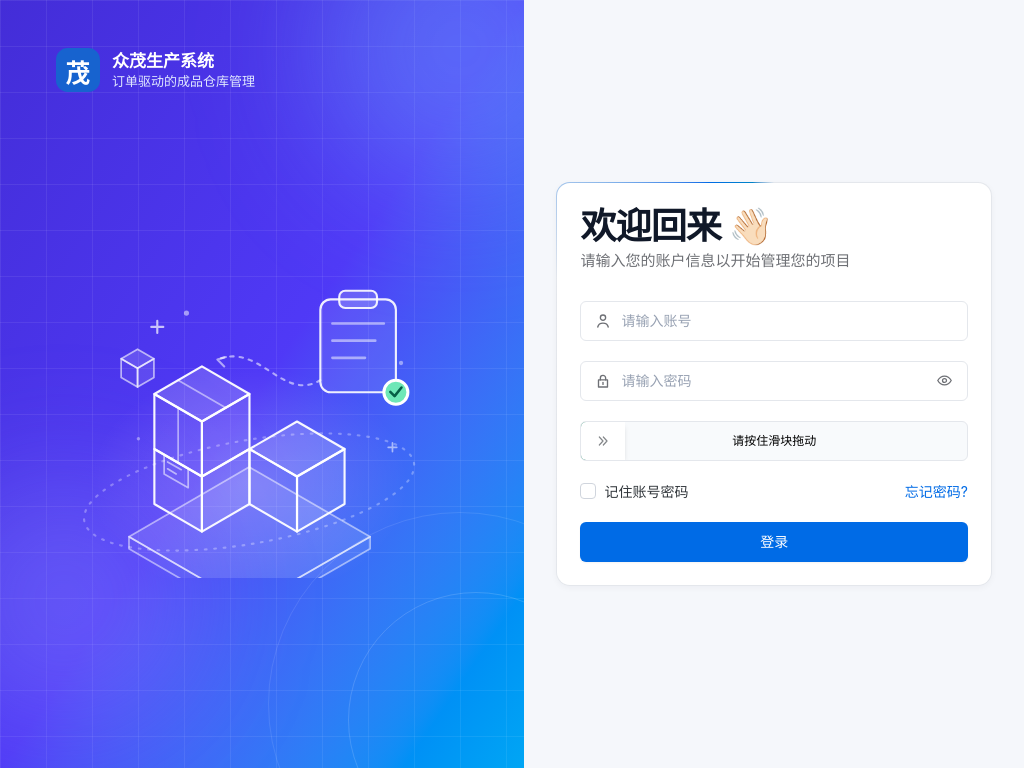
it: LoginPage › resets the captcha but keeps inputs after a recoverable service error
Type "sys_admin" into the field labelled "账号" at x=774, y=321, box [580,301,968,341]
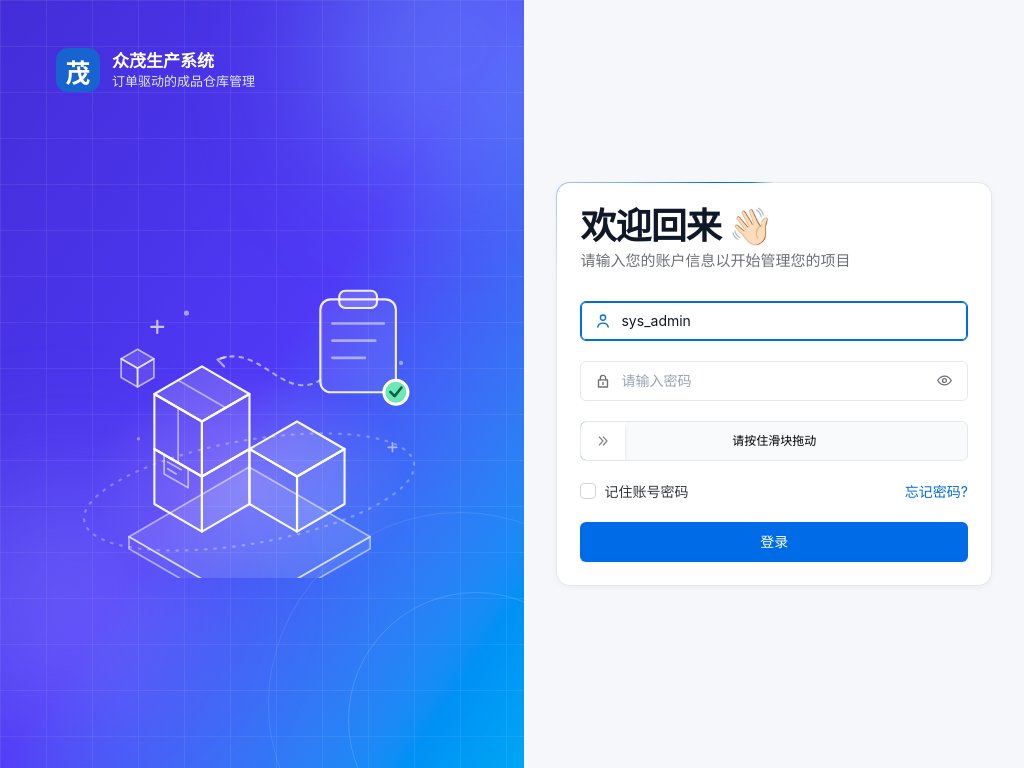
Type "123456" into the password field labelled "密码" at x=774, y=381, box [580,361,968,401]
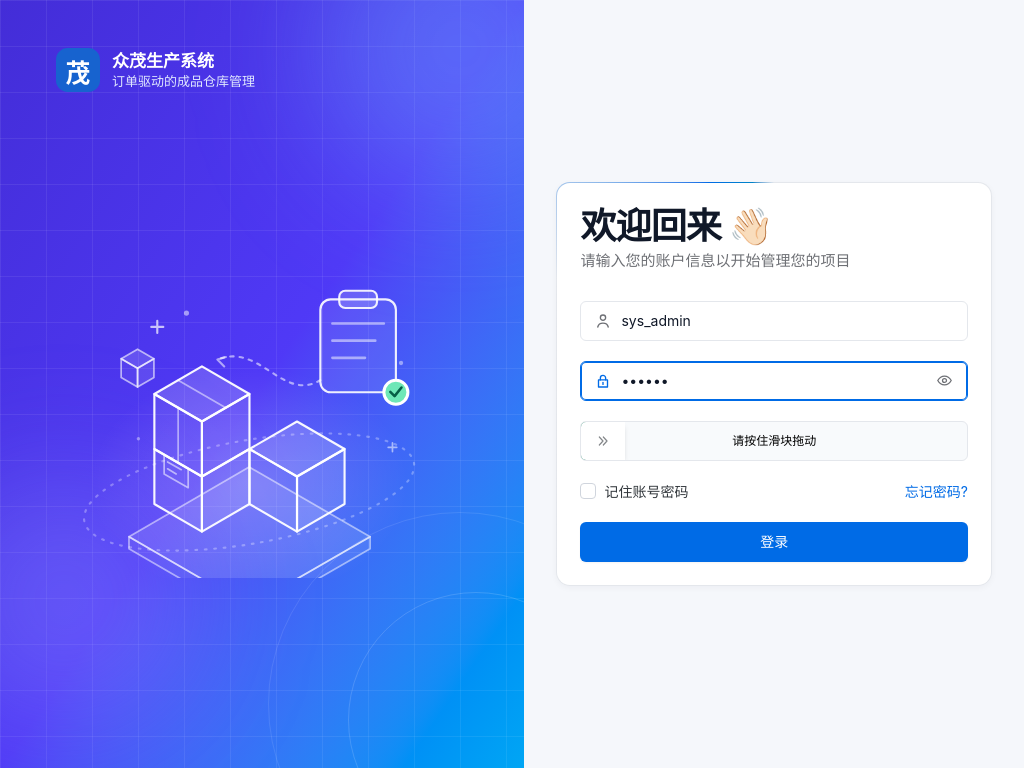
Press End in the slider, box [582,422,626,460]
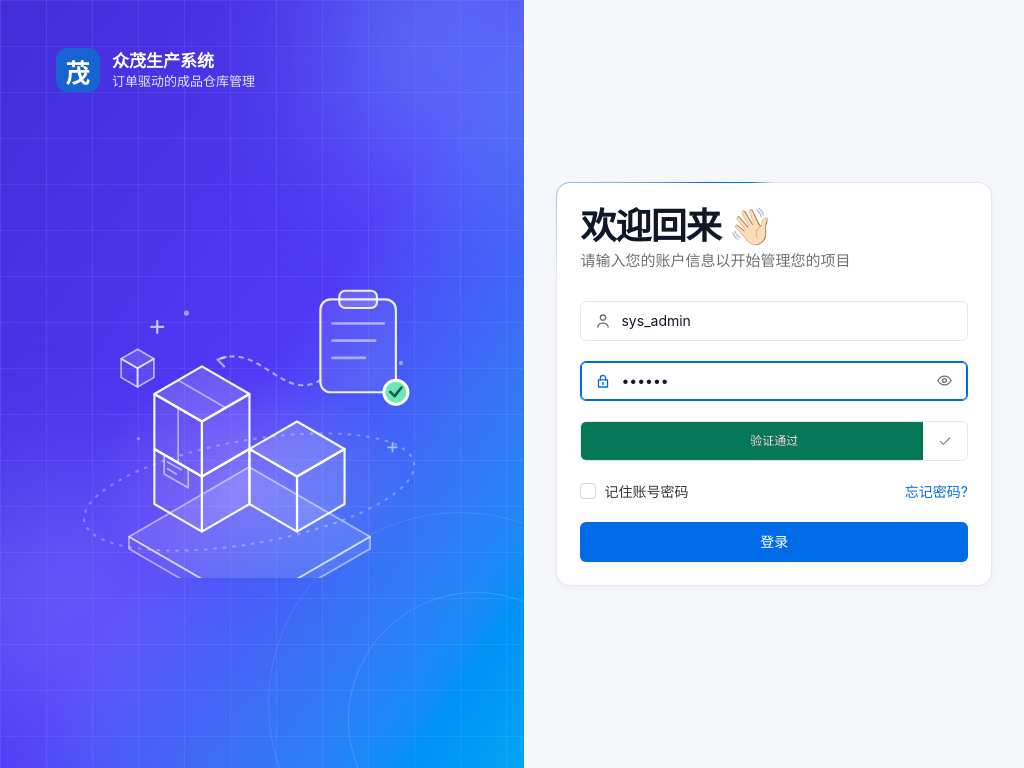
Click the button "登录" at x=774, y=542, box [580,522,968,562]
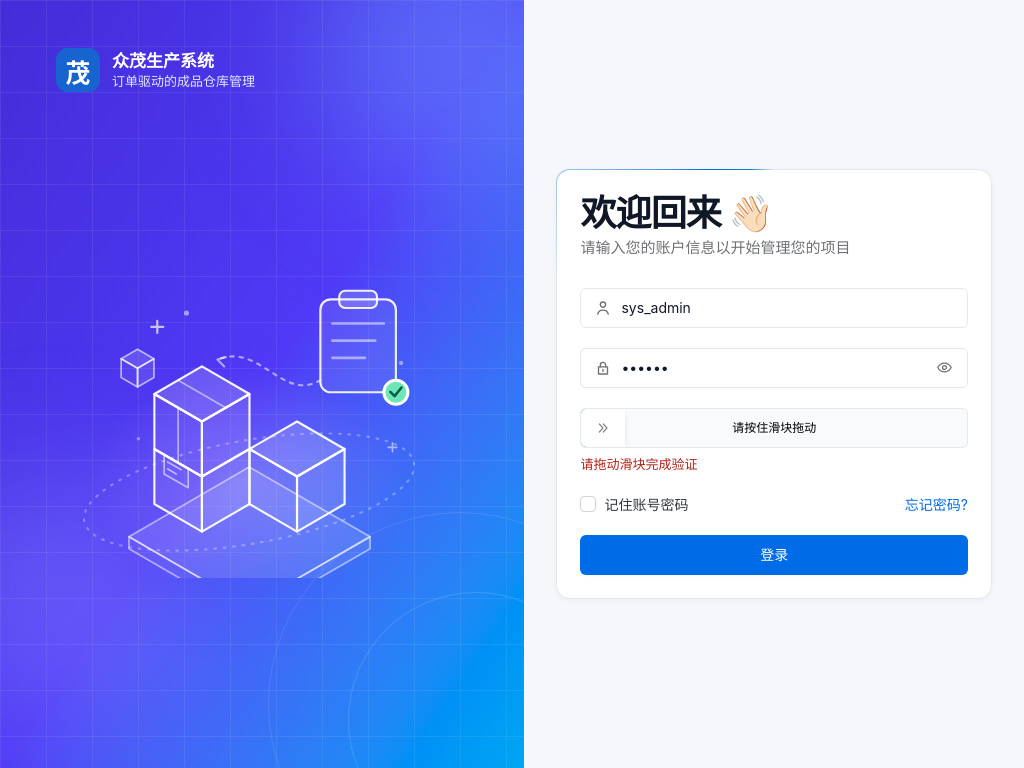
Check: the text "请按住滑块拖动" is shown, box [732,418,816,438]
